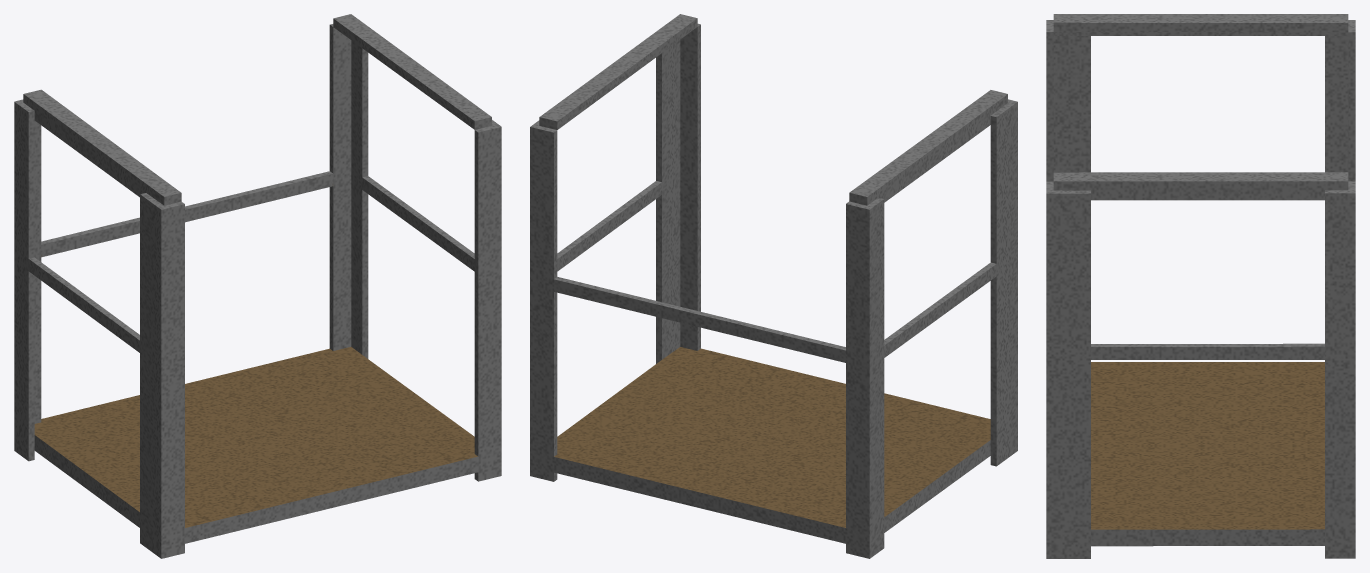
Rendered from regal2.fbx.
The picture shows the model from 3 angles, left to right: view 1: azimuth 30°, elevation 25°; view 2: azimuth 150°, elevation 25°; view 3: azimuth 270°, elevation 25°; orthographic projection. The views are drawn at different scales.
Parts seen in each view (by area): view 1: Plane.004; view 2: Plane.004; view 3: Plane.004.
Boxes of the visible parts, x1,y1,x2,y2 form: Plane.004: (14, 14, 501, 558); Plane.004: (530, 14, 1017, 558); Plane.004: (1046, 14, 1355, 558).
Bounding box in the file's own units: 398 × 400 × 299.
Materials: 1 (1 with a texture image).
